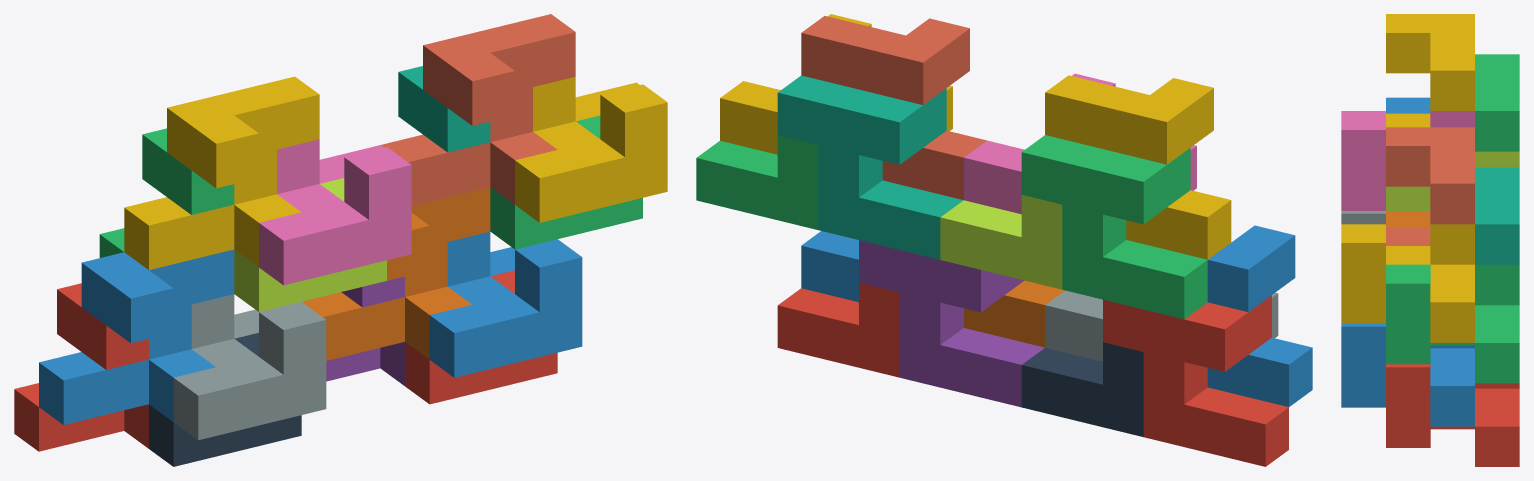
The model's file is tiling.obj.
3 views of the same model, side by side, from view 1: azimuth 30°, elevation 25°; view 2: azimuth 150°, elevation 25°; view 3: azimuth 270°, elevation 25° (orthographic). The views are drawn at different scales.
Visible parts, largest first — view 1: copy_1_domain_4, copy_1_domain_8, copy_1_domain_2, copy_2_domain_4, copy_2_domain_8, copy_2_domain_2, copy_2_domain_6, copy_1_domain_6, copy_1_domain_1, copy_2_domain_3, copy_2_domain_7, copy_2_domain_5 (+4 smaller); view 2: copy_1_domain_3, copy_1_domain_7, copy_1_domain_1, copy_1_domain_5, copy_1_domain_4, copy_1_domain_8, copy_1_domain_2, copy_2_domain_3, copy_2_domain_7, copy_2_domain_1, copy_2_domain_5, copy_2_domain_4 (+4 smaller); view 3: copy_2_domain_8, copy_2_domain_7, copy_1_domain_8, copy_2_domain_5, copy_1_domain_4, copy_2_domain_6, copy_2_domain_4, copy_1_domain_3, copy_1_domain_7, copy_2_domain_3, copy_1_domain_2, copy_1_domain_6 (+1 smaller).
Part boxes in pixels (<box>): copy_1_domain_4: <box>124,76,319,269</box>; copy_1_domain_8: <box>381,14,575,205</box>; copy_1_domain_2: <box>39,249,234,424</box>; copy_2_domain_4: <box>259,139,411,285</box>; copy_2_domain_8: <box>515,77,667,222</box>; copy_2_domain_2: <box>173,294,326,440</box>; copy_2_domain_6: <box>429,231,582,377</box>; copy_1_domain_6: <box>302,187,490,360</box>; copy_1_domain_1: <box>14,283,148,451</box>; copy_2_domain_3: <box>234,178,386,311</box>; copy_2_domain_7: <box>490,115,642,249</box>; copy_2_domain_5: <box>405,270,557,404</box>; copy_1_domain_3: <box>1021,135,1207,319</box>; copy_1_domain_7: <box>777,75,963,259</box>; copy_1_domain_1: <box>1103,295,1288,466</box>; copy_1_domain_5: <box>859,240,1044,407</box>; copy_1_domain_4: <box>1045,75,1231,259</box>; copy_1_domain_8: <box>801,16,986,200</box>; copy_1_domain_2: <box>1207,225,1312,406</box>; copy_2_domain_3: <box>940,195,1062,289</box>; copy_2_domain_7: <box>696,135,818,229</box>; copy_2_domain_1: <box>1021,342,1143,436</box>; copy_2_domain_5: <box>777,282,899,377</box>; copy_2_domain_4: <box>964,73,1196,214</box>; copy_2_domain_8: <box>1341,224,1474,342</box>; copy_2_domain_7: <box>1386,264,1519,383</box>; copy_1_domain_8: <box>1386,127,1474,245</box>; copy_2_domain_5: <box>1386,364,1519,466</box>; copy_1_domain_4: <box>1386,14,1474,127</box>; copy_2_domain_6: <box>1341,324,1474,426</box>; copy_2_domain_4: <box>1341,111,1474,210</box>; copy_1_domain_3: <box>1475,54,1519,151</box>; copy_1_domain_7: <box>1475,167,1519,264</box>; copy_2_domain_3: <box>1386,151,1519,210</box>; copy_1_domain_2: <box>1386,97,1430,113</box>; copy_1_domain_6: <box>1386,211,1430,226</box>.
Size of the model in its own units: 14 by 7 by 4.
